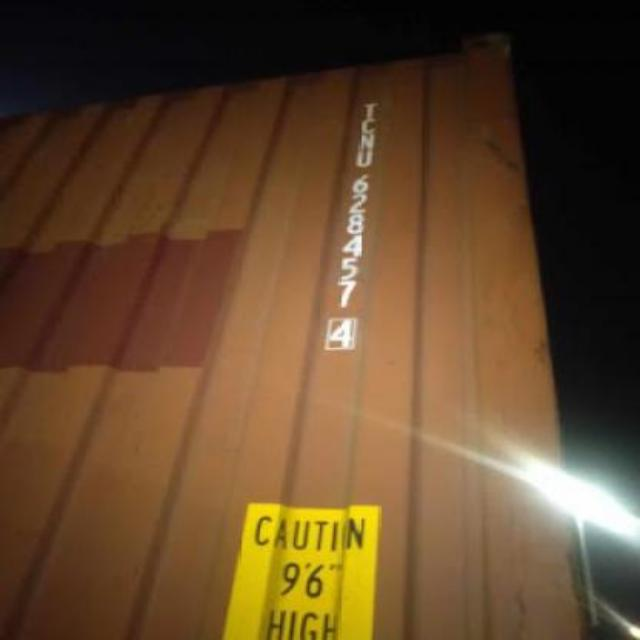2: (344, 190, 376, 214)
4: (328, 316, 358, 349), (334, 236, 370, 256)
5: (338, 256, 366, 280)
6: (348, 170, 380, 192)
7: (337, 276, 358, 308)
8: (340, 212, 376, 235)
C: (358, 115, 394, 135)
N: (356, 132, 394, 148)
T: (358, 94, 384, 118)
U: (354, 146, 378, 170)
